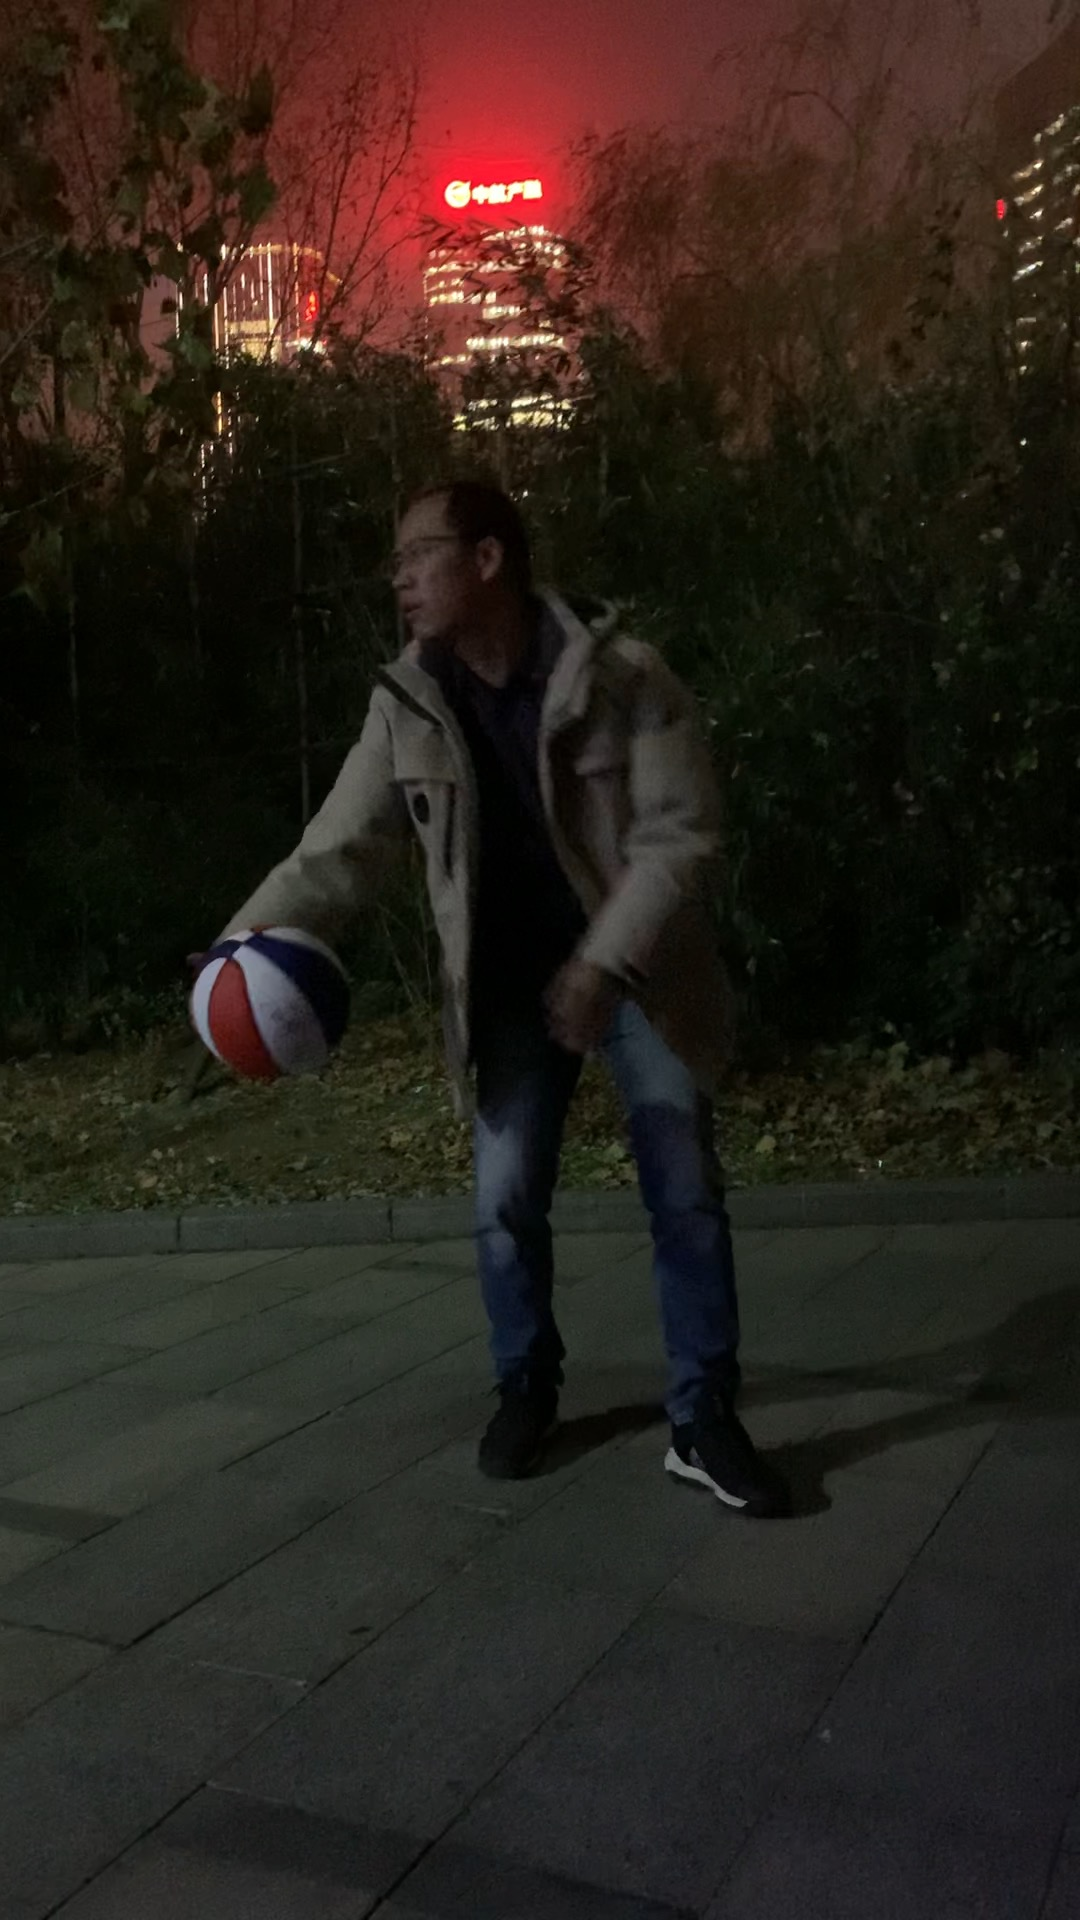ball: (183, 923, 352, 1087)
